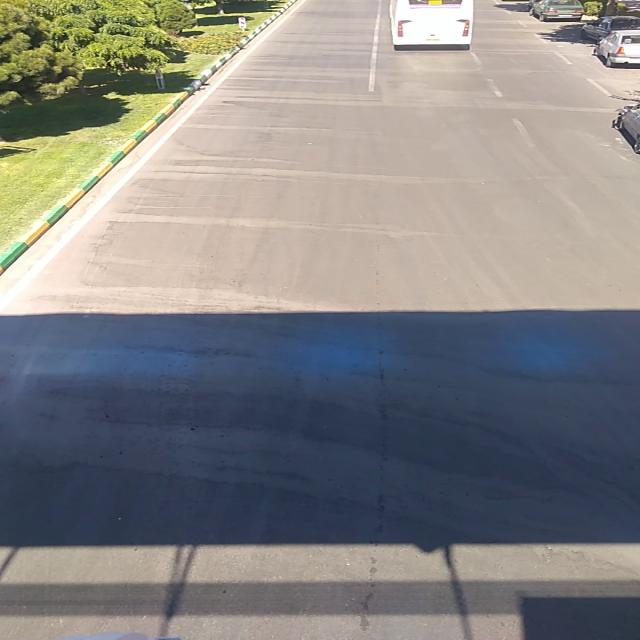bus: (387, 1, 477, 49)
car: (592, 31, 638, 66), (528, 0, 582, 21)
